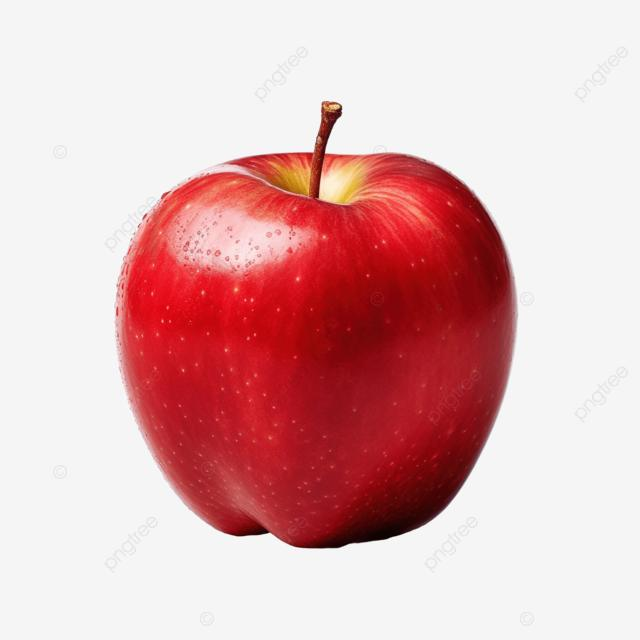Apple: (112, 152, 518, 553)
